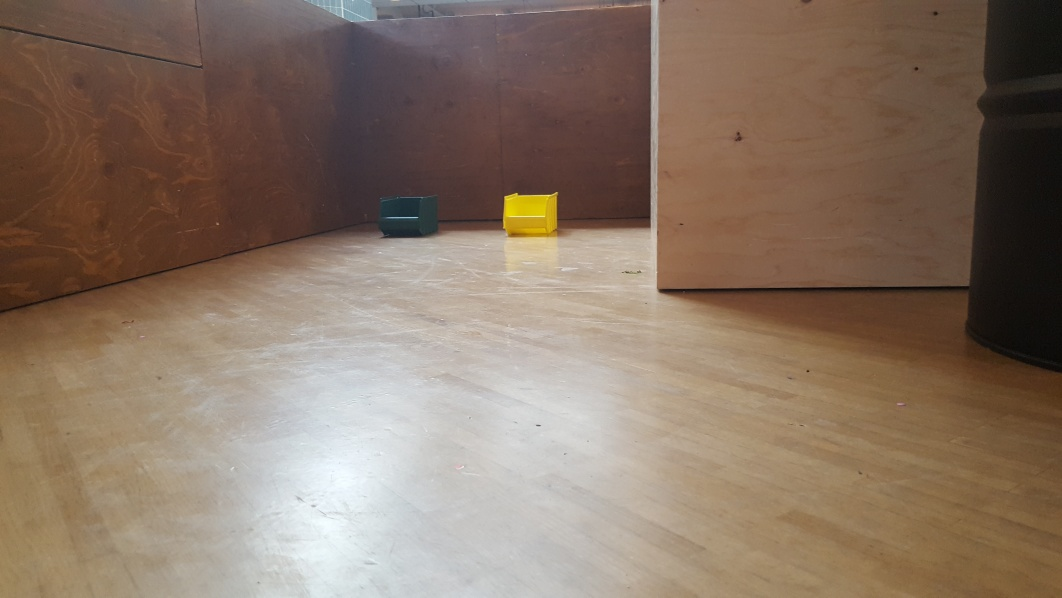tray: (372, 194, 444, 237), (499, 192, 563, 235)
